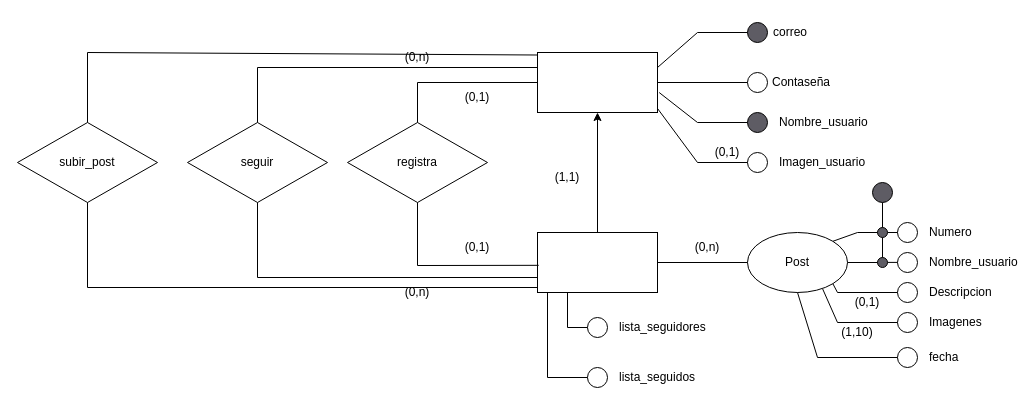
Image size: 1036x409. Some labels were removed from this diagram. Each missing label, with the centre of its shape:
"Perfil" goes at (597,262).
"Usuario" goes at (597,82).
